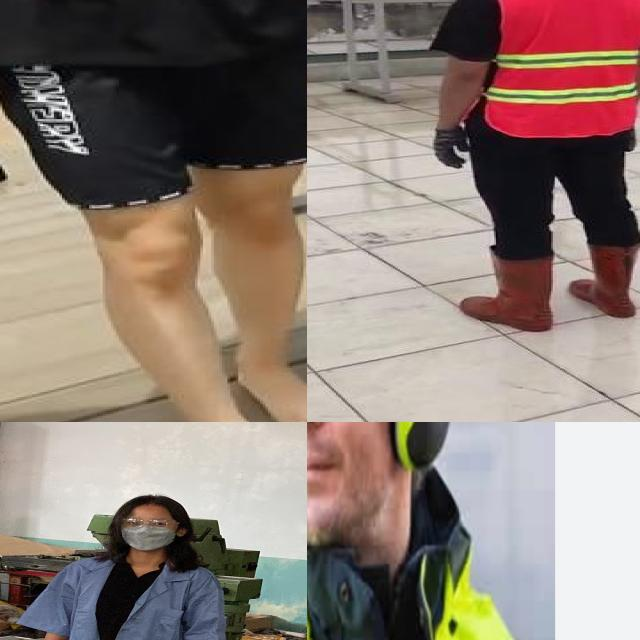Ear-protection: (307, 422, 460, 577)
boots: (457, 249, 555, 333), (567, 242, 640, 317)
face_mask: (120, 515, 180, 548)
glasses: (117, 516, 183, 531)
hand_glove: (432, 124, 480, 169)
head_nohelmet: (115, 492, 189, 516)
person: (423, 0, 640, 339), (307, 422, 533, 640), (2, 488, 234, 640)
vest: (469, 0, 640, 136)
